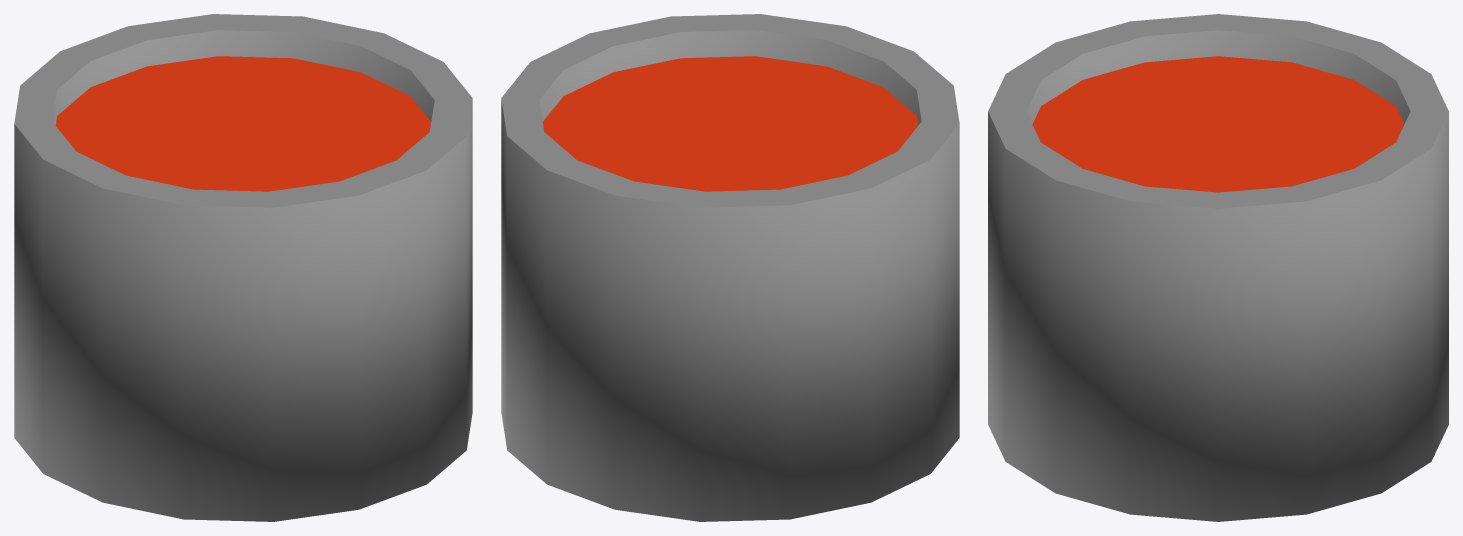
Rendered from PaintCan.fbx.
3 renders of one model, left to right at view 1: azimuth 30°, elevation 25°; view 2: azimuth 150°, elevation 25°; view 3: azimuth 270°, elevation 25°, orthographic.
Visible parts, largest first — view 1: PaintCan; view 2: PaintCan; view 3: PaintCan.
Boxes of the visible parts, box(x1,y1,x2,y2) form: PaintCan: box(14, 14, 472, 521); PaintCan: box(501, 14, 959, 521); PaintCan: box(988, 14, 1448, 521).
Bounding box in the file's own units: 2 × 2 × 1.5.
